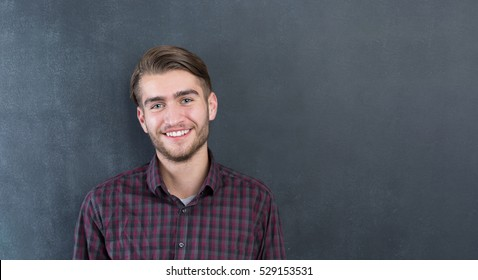NoMask: (144, 88, 205, 161)
